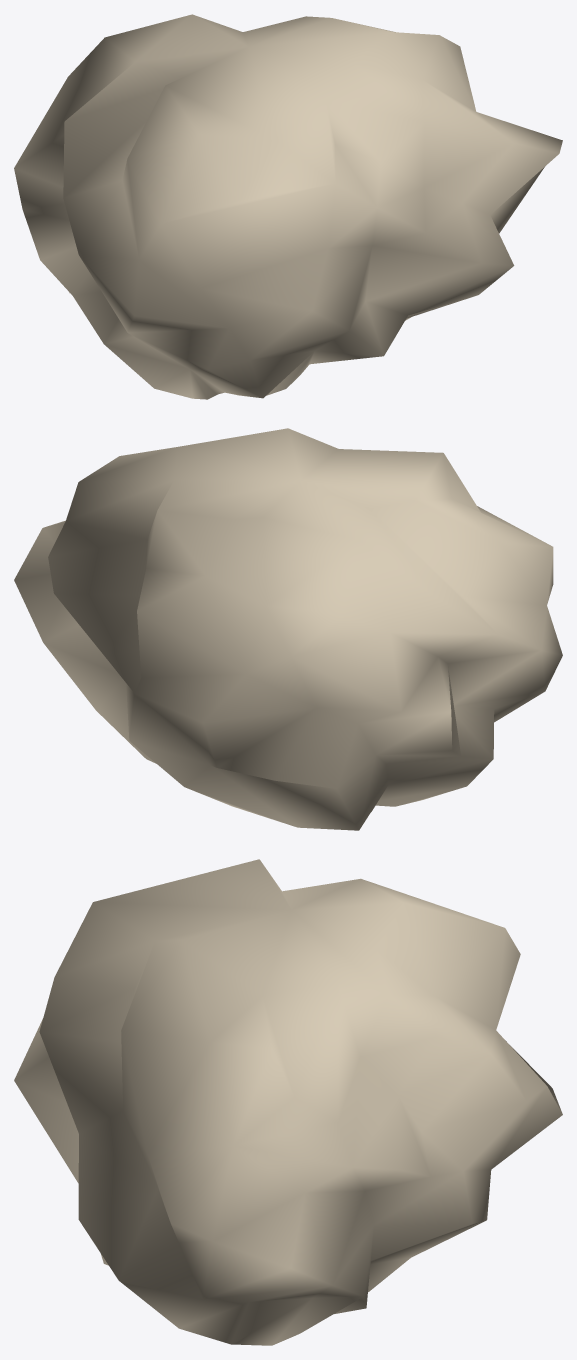
The model's file is rock2-lod2.glb.
3 views of the same model, one above another, from view 1: azimuth 30°, elevation 25°; view 2: azimuth 150°, elevation 25°; view 3: azimuth 270°, elevation 25° (orthographic). The views are drawn at different scales.
Visible parts, largest first — view 1: rock2_rock; view 2: rock2_rock; view 3: rock2_rock.
Part boxes in pixels (x1,y1,x2,y2): rock2_rock: (14, 14, 562, 399); rock2_rock: (14, 428, 562, 830); rock2_rock: (14, 859, 562, 1345).
Size of the model in its own units: 2.34 by 1.49 by 1.92.
